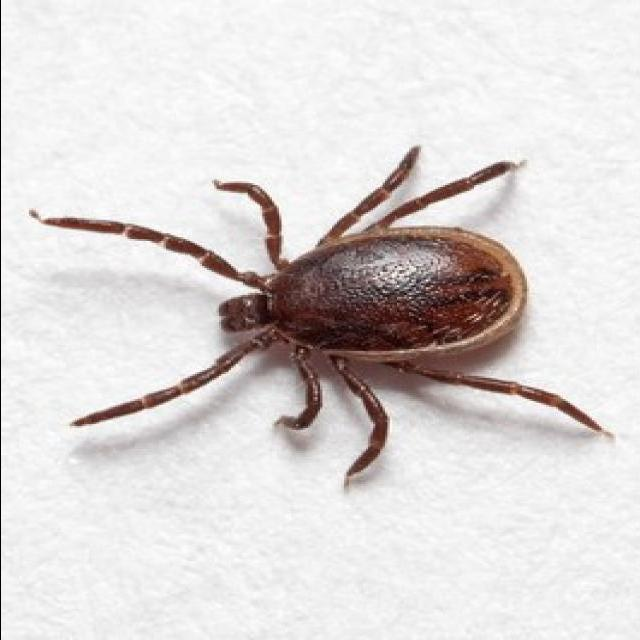Ixodes Ricinus-M: (31, 147, 606, 486)
